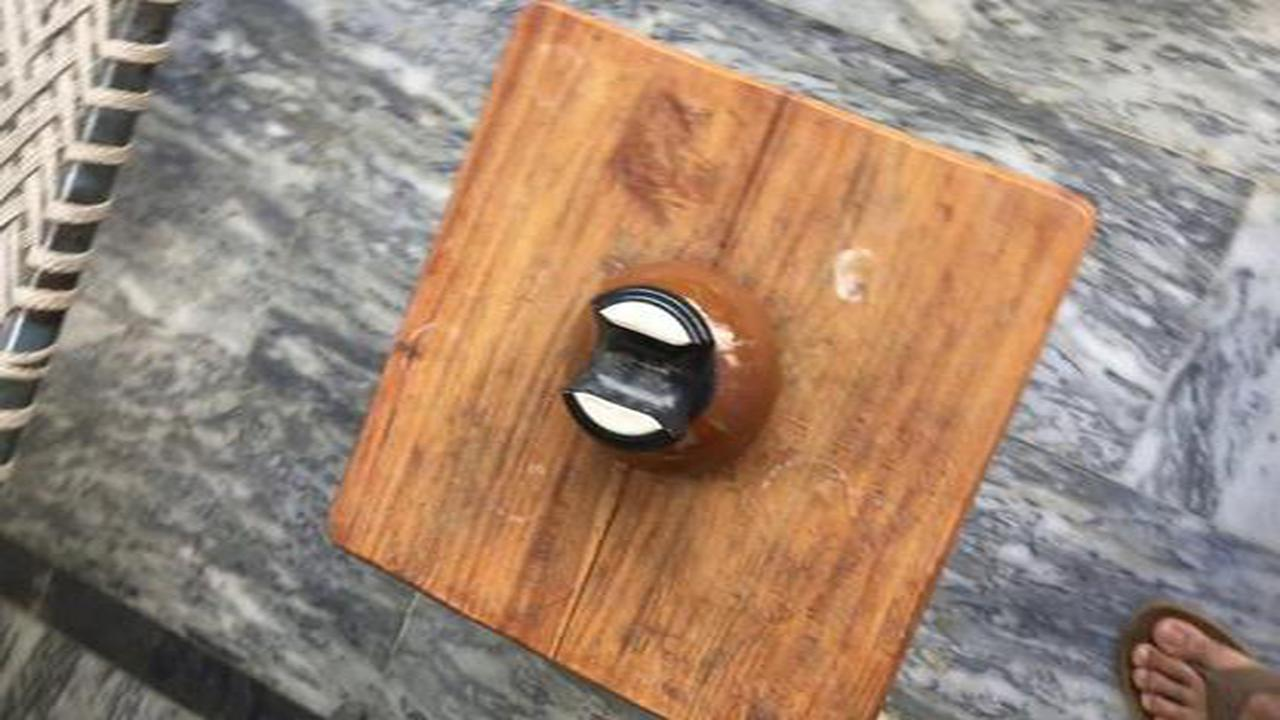insulator_pin: (533, 251, 807, 494)
